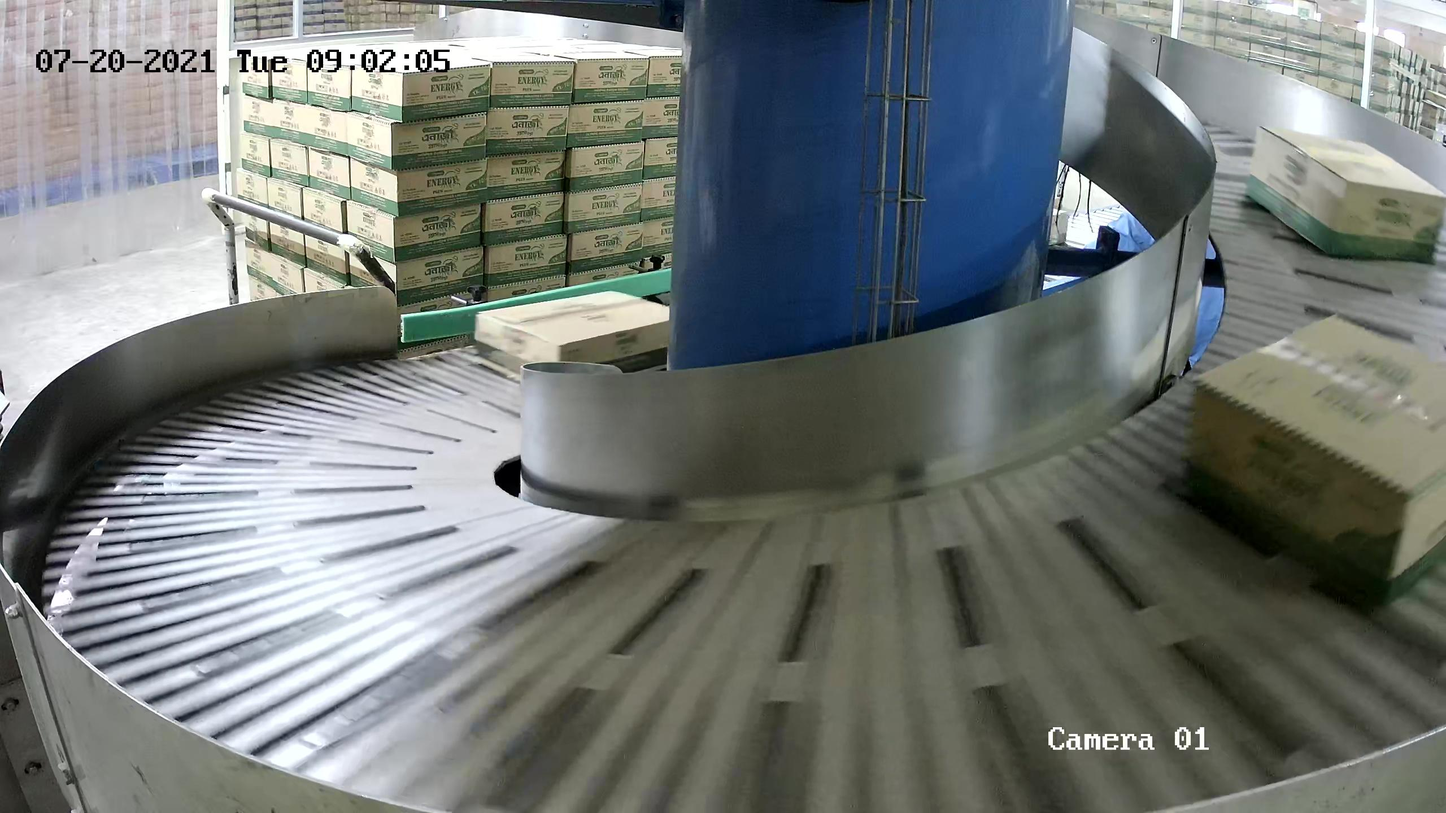Box: (1181, 310, 1446, 612), (1245, 123, 1446, 261), (473, 289, 670, 384)
